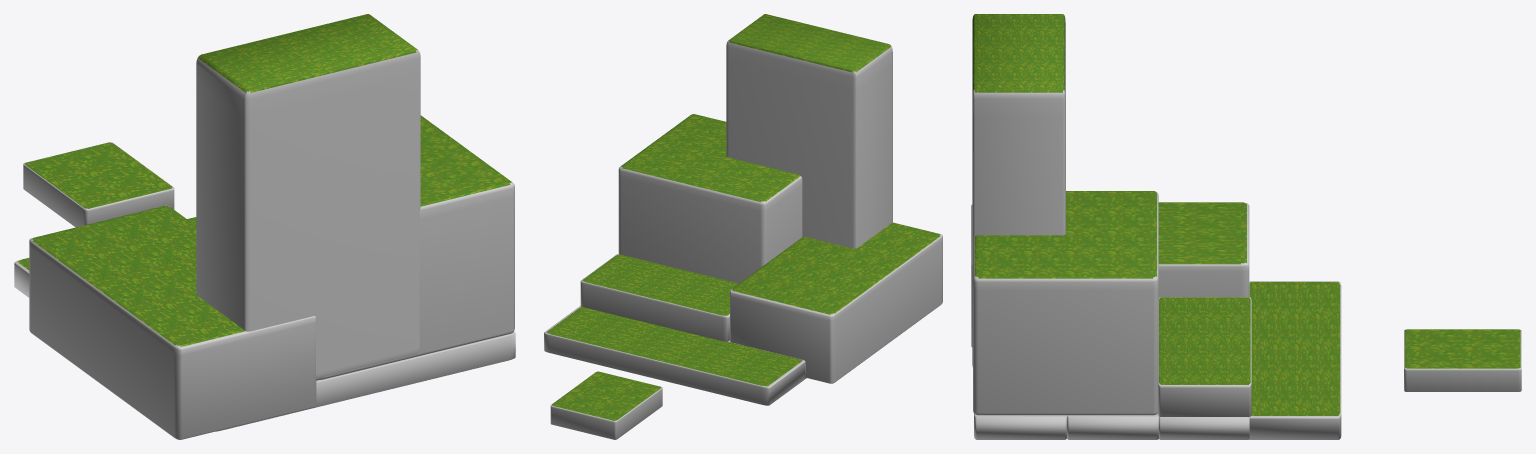
The model's file is escenarioSuperMarioVfinal.obj.
3 views of the same model, side by side, from view 1: azimuth 30°, elevation 25°; view 2: azimuth 150°, elevation 25°; view 3: azimuth 270°, elevation 25° (orthographic). The views are drawn at different scales.
Visible parts, largest first — view 1: cuboUltimo, cubo4to, cubo5to, cubo1ero, base3, cubo2do; view 2: cuboUltimo, cubo4to, cubo5to, cubo2do, cubo3ro, cubo1ero; view 3: cubo5to, cuboUltimo, cubo2do, cubo3ro, cubo4to, cubo1ero, base3, base2, base1.
Part boxes in pixels (box(x1,y1,x2,y2)): cuboUltimo: box(196, 14, 420, 380); cubo4to: box(29, 205, 316, 439); cubo5to: box(320, 115, 514, 379); cubo1ero: box(23, 142, 174, 227); base3: box(216, 332, 515, 431); cubo2do: box(14, 217, 196, 297); cuboUltimo: box(726, 14, 892, 248); cubo4to: box(730, 222, 942, 383); cubo5to: box(618, 114, 802, 283); cubo2do: box(544, 306, 804, 405); cubo3ro: box(580, 254, 738, 341); cubo1ero: box(550, 371, 662, 439); cubo5to: box(973, 191, 1158, 415); cuboUltimo: box(972, 14, 1065, 366); cubo2do: box(1249, 281, 1341, 439); cubo3ro: box(1158, 297, 1251, 416); cubo4to: box(971, 202, 1249, 347); cubo1ero: box(1404, 329, 1521, 391); base3: box(974, 414, 1066, 439); base2: box(1067, 413, 1158, 439); base1: box(1159, 282, 1249, 439).
Size of the model in its own units: 49.65 by 46.61 by 75.75.
